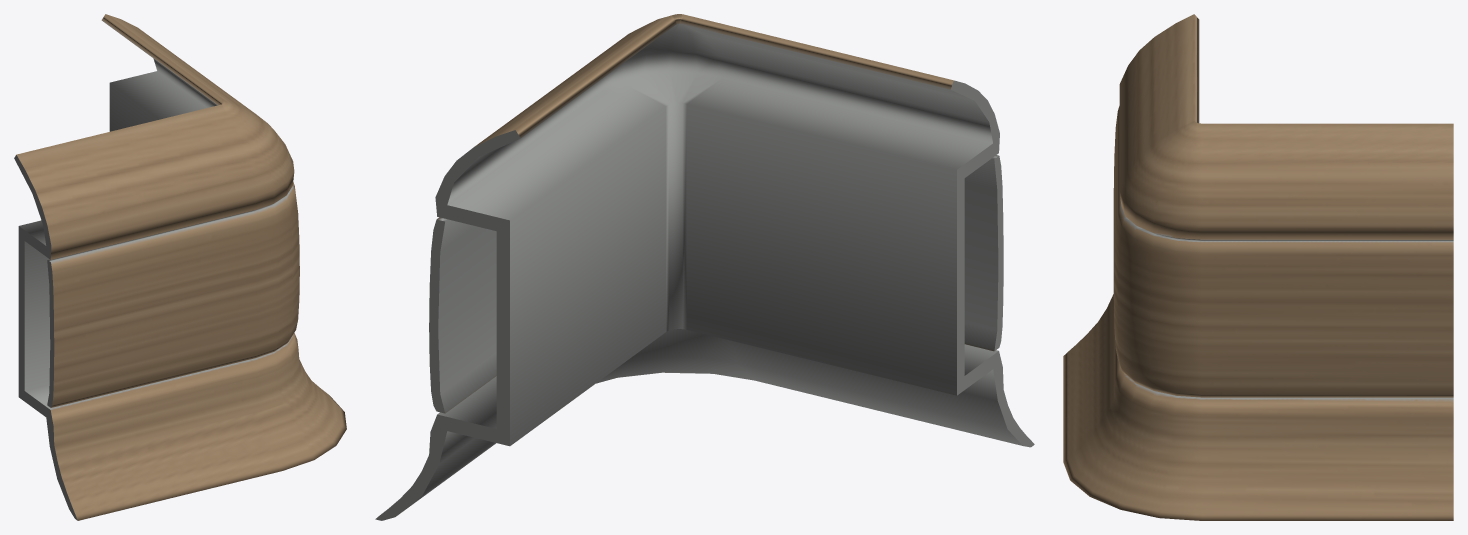
The model's file is Skirting_OuterCorner_LOD0.fbx.
3 renders of one model, left to right at view 1: azimuth 30°, elevation 25°; view 2: azimuth 150°, elevation 25°; view 3: azimuth 270°, elevation 25°, orthographic. The views are drawn at different scales.
Visible parts, largest first — view 1: Body_LOD0; view 2: Body_LOD0; view 3: Body_LOD0.
Boxes of the visible parts, x1=… form: Body_LOD0: x1=14, y1=14, x2=346, y2=520; Body_LOD0: x1=375, y1=14, x2=1034, y2=520; Body_LOD0: x1=1063, y1=14, x2=1453, y2=520.
Bounding box in the file's own units: 0.062 × 0.06 × 0.062.
